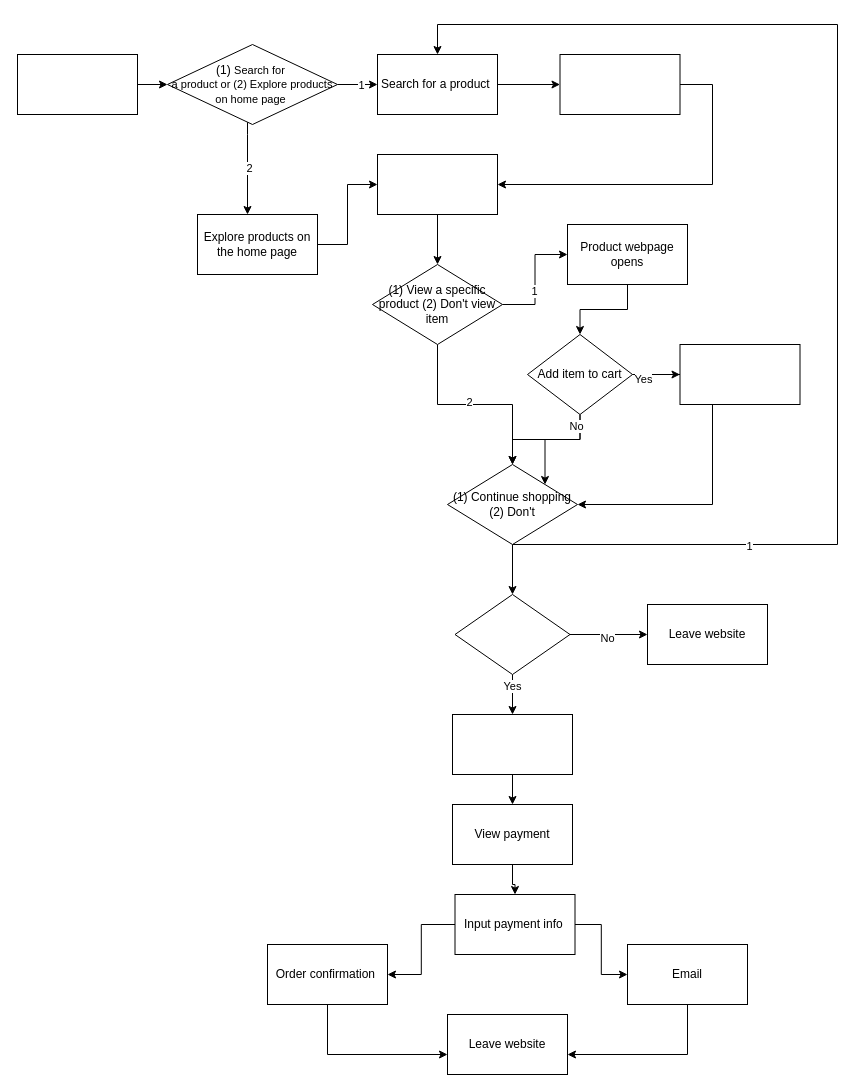
Image size: 863x1092. Some labels were removed from this diagram. Each missing label, with the centre of its shape:
"Checkout" goes at (512,634).
"Look at products" goes at (437,184).
"Provide input to the website of their search" goes at (619,84).
"Recieve added to cart confimration first" goes at (739,374).
"User enters website" goes at (77,84).
"View cart" goes at (512,744).
